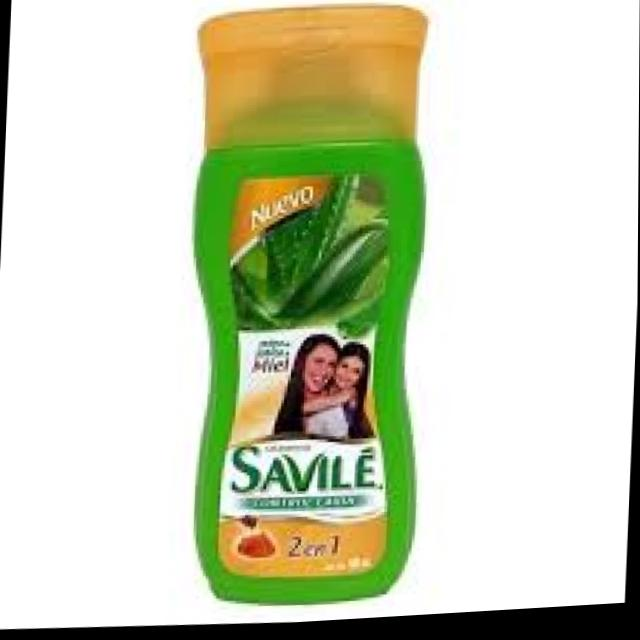Botella: (153, 0, 456, 586)
